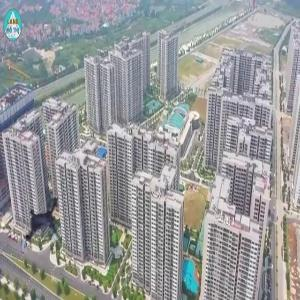drone: (12, 199, 72, 259)
